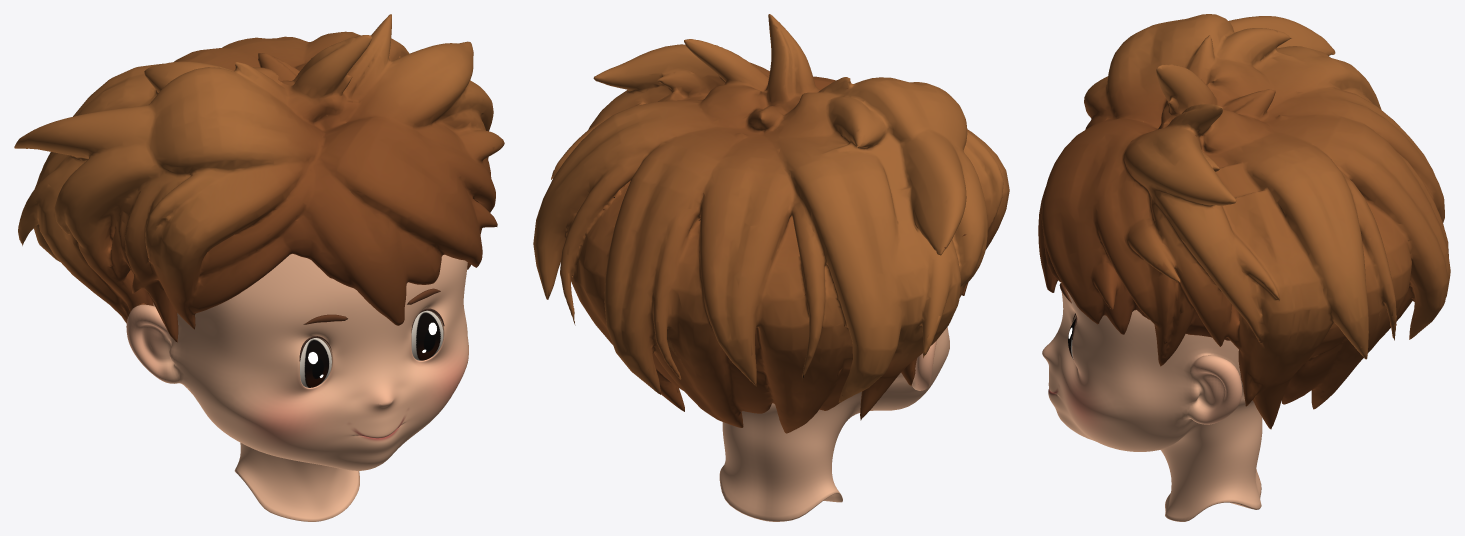
The model's file is head_candidate_v009.glb.
3 views of the same model, side by side, from view 1: azimuth 30°, elevation 25°; view 2: azimuth 150°, elevation 25°; view 3: azimuth 270°, elevation 25° (orthographic). The views are drawn at different scales.
Parts seen in each view (by area): view 1: SCULPT_HAIR, SCULPT_HEAD, SCULPT_EYE_L, SCULPT_EYE_R; view 2: SCULPT_HAIR, SCULPT_HEAD; view 3: SCULPT_HAIR, SCULPT_HEAD.
Boxes of the visible parts, left/top/right/bottom form: SCULPT_HAIR: left=14, top=14, right=504, bottom=342; SCULPT_HEAD: left=126, top=254, right=468, bottom=521; SCULPT_EYE_L: left=411, top=310, right=443, bottom=360; SCULPT_EYE_R: left=300, top=338, right=331, bottom=387; SCULPT_HAIR: left=533, top=14, right=1009, bottom=433; SCULPT_HEAD: left=719, top=327, right=949, bottom=521; SCULPT_HAIR: left=1038, top=14, right=1450, bottom=429; SCULPT_HEAD: left=1042, top=282, right=1262, bottom=521.
Bounding box in the file's own units: 0.4761 × 0.5076 × 0.4073.
Materials: 5 (3 with a texture image).
